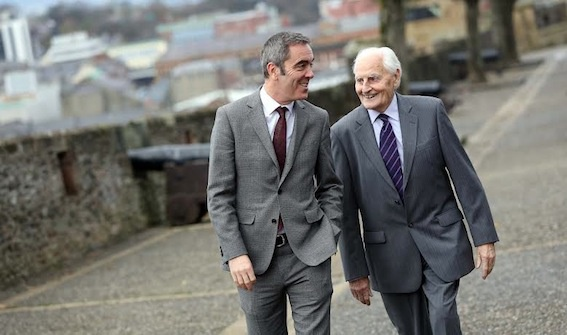bad: (347, 65, 391, 108)
